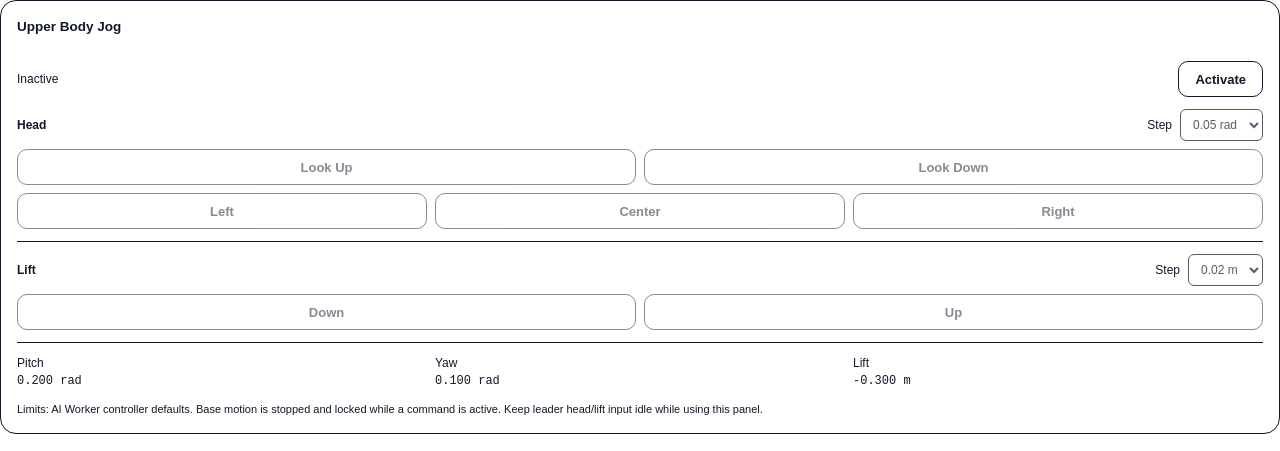
Test: waits for two new stopped odometry samples after publishing stop
Click the button "Activate". click: [1221, 79]
box: [1178,61,1263,97]
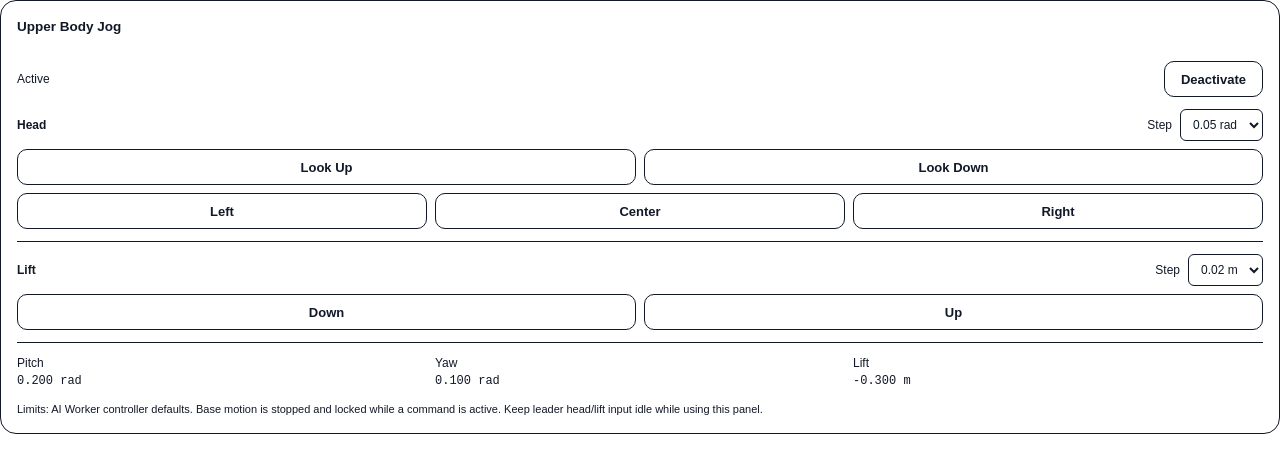
Click the button "Look Up". click: [326, 167]
box: [17,149,636,185]
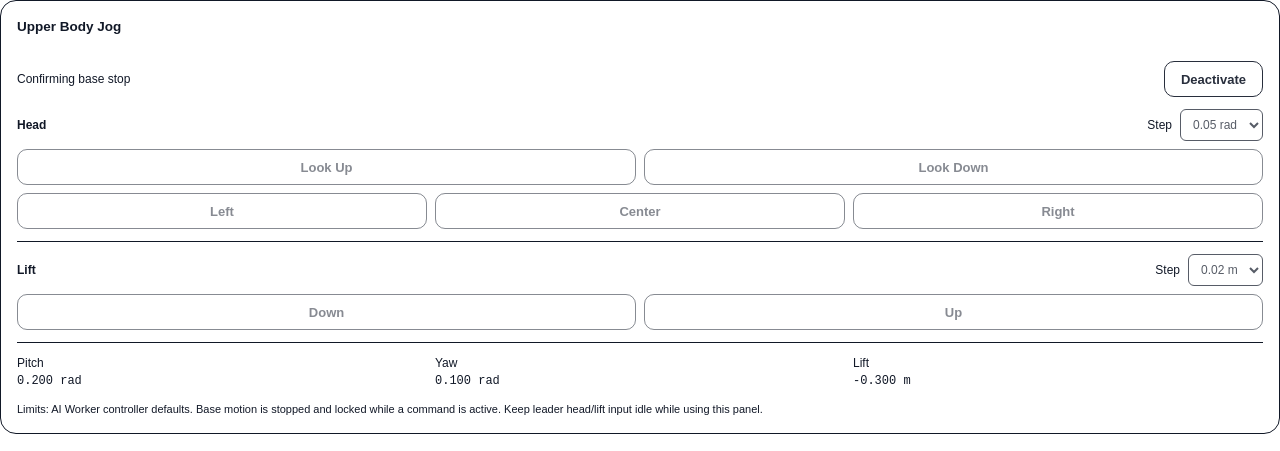
expect the text "Confirming base stop" is shown: met, box [17,71,130,87]
